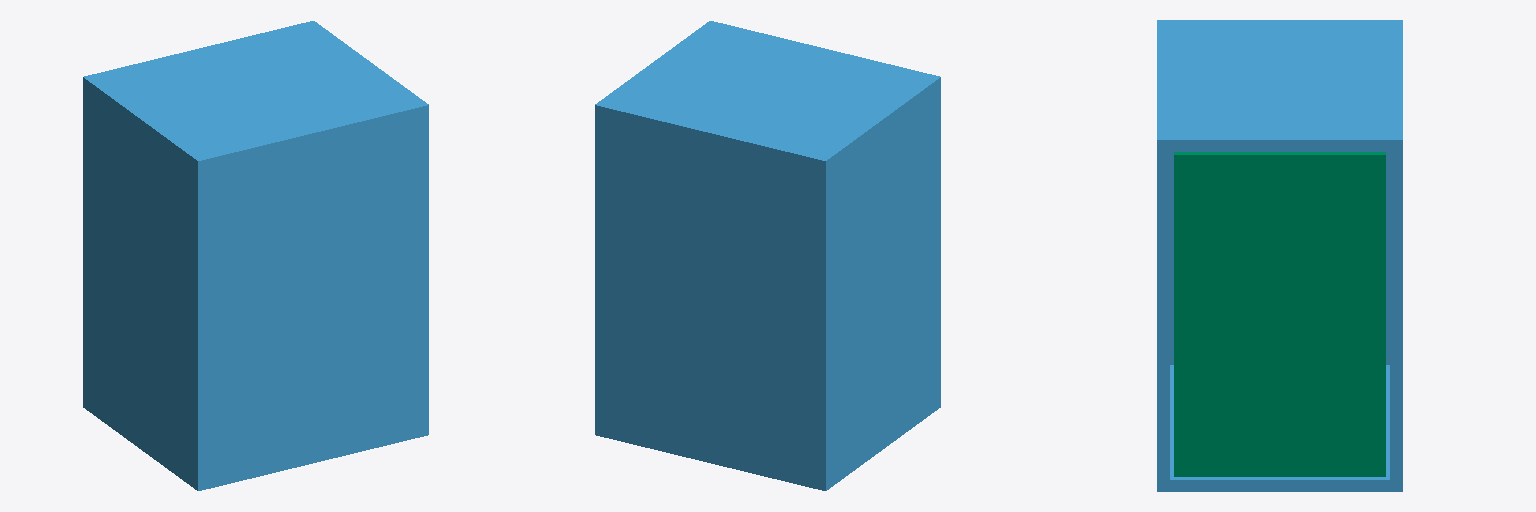
robot.urdf — my_cabinet:
<?xml version="1.0" ?>
<robot name="my_cabinet">
	<link name="world"/>
	<joint name="virtual_joint" type="fixed">
		<parent link="world"/>
		<child link="base_cabinet_link"/>
		<origin xyz="0.0 0.0 0.0" rpy="0.0 0.0 0.0"/>
	</joint>
	<link name="base_cabinet_link">
		<visual>
			<origin xyz="0.0 0.0 -0.264" rpy="0.0 0.0 0.0"/>
			<geometry>
				<box size="0.4 0.346 0.018"/>
			</geometry>
		</visual>
		<collision>
			<origin xyz="0.0 0.0 -0.264" rpy="0.0 0.0 0.0"/>
			<geometry>
				<box size="0.4 0.346 0.018"/>
			</geometry>
		</collision>
		<visual>
			<origin xyz="0.0 0.16399999999999998 0.0" rpy="0.0 0.0 0.0"/>
			<geometry>
				<box size="0.4 0.018 0.546"/>
			</geometry>
		</visual>
		<collision>
			<origin xyz="0.0 0.16399999999999998 0.0" rpy="0.0 0.0 0.0"/>
			<geometry>
				<box size="0.4 0.018 0.546"/>
			</geometry>
		</collision>
		<visual>
			<origin xyz="0.0 -0.16399999999999998 0.0" rpy="0.0 0.0 0.0"/>
			<geometry>
				<box size="0.4 0.018 0.546"/>
			</geometry>
		</visual>
		<collision>
			<origin xyz="0.0 -0.16399999999999998 0.0" rpy="0.0 0.0 0.0"/>
			<geometry>
				<box size="0.4 0.018 0.546"/>
			</geometry>
		</collision>
		<visual>
			<origin xyz="0.0 0.0 0.264" rpy="0.0 0.0 0.0"/>
			<geometry>
				<box size="0.4 0.346 0.018"/>
			</geometry>
		</visual>
		<collision>
			<origin xyz="0.0 0.0 0.264" rpy="0.0 0.0 0.0"/>
			<geometry>
				<box size="0.4 0.346 0.018"/>
			</geometry>
		</collision>
		<visual>
			<origin xyz="-0.191 0.0 0.0" rpy="0.0 0.0 0.0"/>
			<geometry>
				<box size="0.018 0.346 0.546"/>
			</geometry>
		</visual>
		<collision>
			<origin xyz="-0.191 0.0 0.0" rpy="0.0 0.0 0.0"/>
			<geometry>
				<box size="0.018 0.346 0.546"/>
			</geometry>
		</collision>
		<inertial>
			<mass value="0.200000"/>
			<inertia ixx="0.006964" ixy="0.0" ixz="0.0" iyy="0.007635" iyz="0.0" izz="0.004662"/>
		</inertial>
	</link>
	<link name="door_link">
		<visual>
			<origin xyz="0.0 0.13999999999999999 0.0"/>
			<geometry>
				<box size="0.018 0.3 0.5"/>
			</geometry>
		</visual>
		<collision>
			<origin xyz="0.0 0.13999999999999999 0.0"/>
			<geometry>
				<box size="0.018 0.3 0.5"/>
			</geometry>
		</collision>
		<inertial>
			<mass value="0.200000"/>
			<inertia ixx="0.005667" ixy="0.0" ixz="0.0" iyy="0.004172" iyz="0.0" izz="0.001505"/>
		</inertial>
	</link>
	<joint name="door_joint" type="revolute">
		<origin xyz="0.191 0.13999999999999999 0" rpy="0 0 3.141592653589793"/>
		<axis xyz="0 0 1"/>
		<parent link="base_cabinet_link"/>
		<child link="door_link"/>
		<limit effort="50" lower="0" upper="1.5707963267948966" velocity="10"/>
		<dynamics friction="1.0"/>
	</joint>
	<gazebo reference="my_cabinet">
		<material>Gazebo/Blue</material>
	</gazebo>
</robot>

--- What the picture shows (computed from the rendered views, not written in the file) ---
3 views of the same robot in one strip: view 1: azimuth 30°, elevation 25°; view 2: azimuth 150°, elevation 25°; view 3: azimuth 270°, elevation 25° (orthographic).
Robot: my_cabinet — 3 links, 2 joints (1 revolute, 1 fixed); root link world; default pose: every joint at zero.
Links seen in each view (by area): view 1: base_cabinet_link; view 2: base_cabinet_link; view 3: door_link, base_cabinet_link.
Link boxes in pixels (box(x1,y1,x2,y2)): base_cabinet_link: box(83, 21, 428, 490); base_cabinet_link: box(595, 21, 940, 490); door_link: box(1174, 152, 1385, 476); base_cabinet_link: box(1157, 20, 1402, 491).
Bounding box of the posed robot: 0.4 × 0.346 × 0.546 m (x, y, z).
Geometry: primitives only (box / cylinder / sphere), no mesh files.